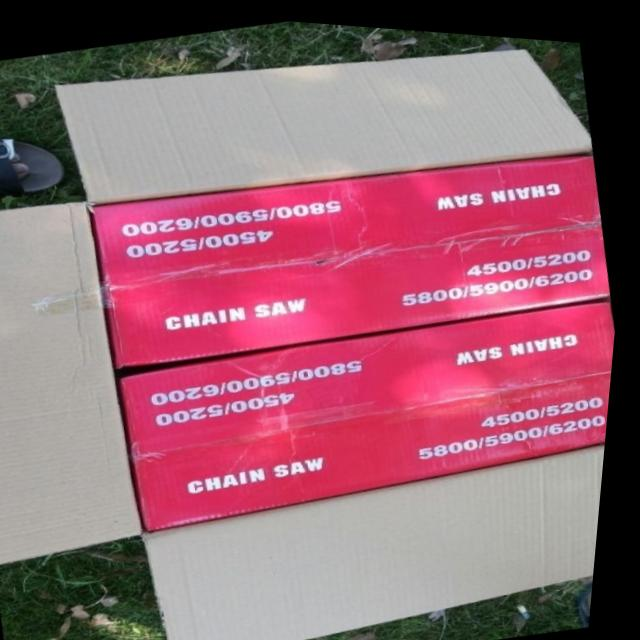box: (94, 143, 612, 371), (123, 291, 619, 529)
